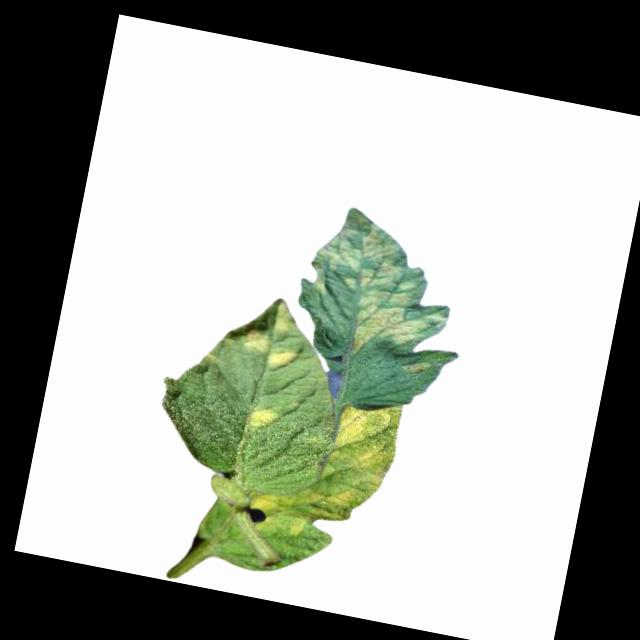Leaf_Mold: (296, 200, 465, 372), (241, 467, 374, 554), (327, 400, 406, 491), (240, 403, 281, 439), (269, 298, 302, 336), (264, 346, 298, 374), (240, 326, 273, 353)
